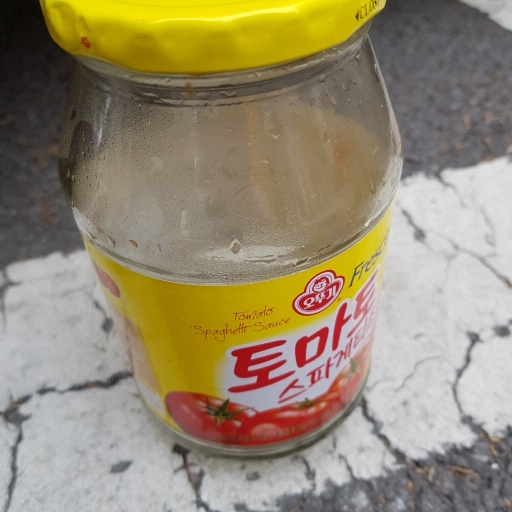Glass_5: (40, 1, 408, 455)
